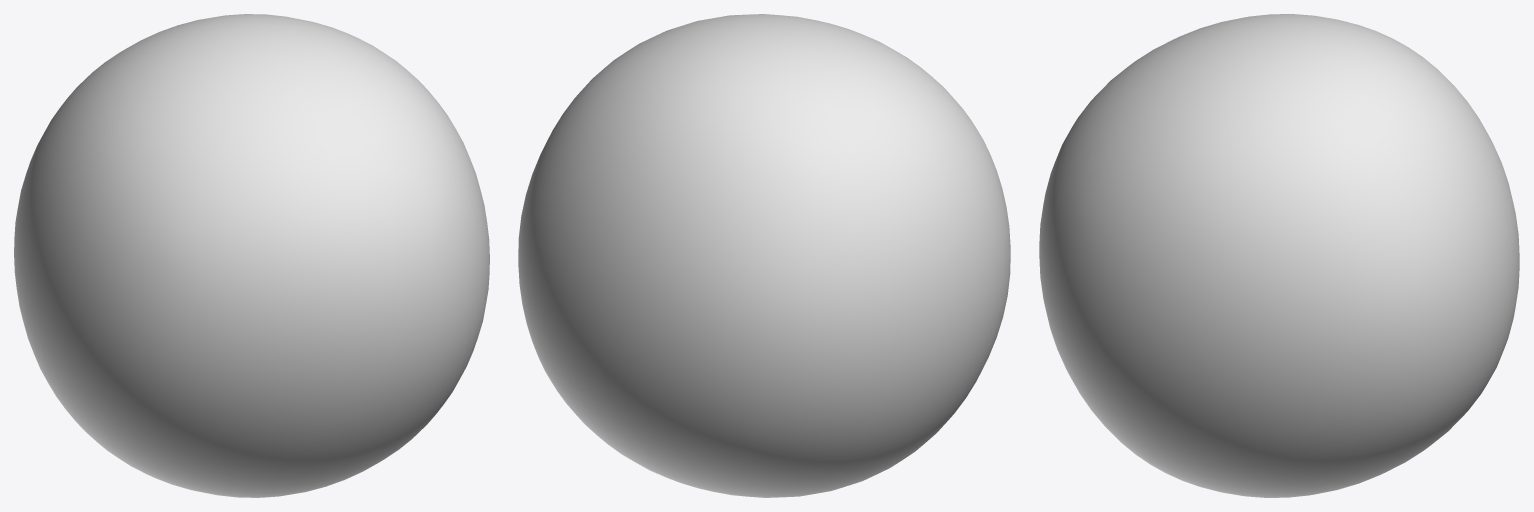
The picture shows the model from 3 angles, left to right: view 1: azimuth 30°, elevation 25°; view 2: azimuth 150°, elevation 25°; view 3: azimuth 270°, elevation 25°; orthographic projection.
Visible parts, largest first — view 1: Cube.1412; view 2: Cube.1412; view 3: Cube.1412.
Part boxes in pixels (left/top/right/bottom): Cube.1412: left=14, top=14, right=489, bottom=497; Cube.1412: left=518, top=14, right=1010, bottom=497; Cube.1412: left=1039, top=14, right=1519, bottom=497.
Bounding box in the file's own units: 1.38 × 1.39 × 1.39.
1 material, 1 textured.
